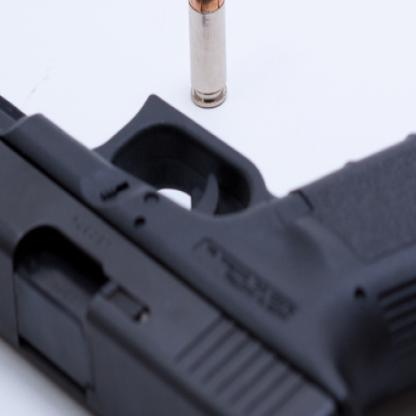gun: (0, 62, 415, 415)
